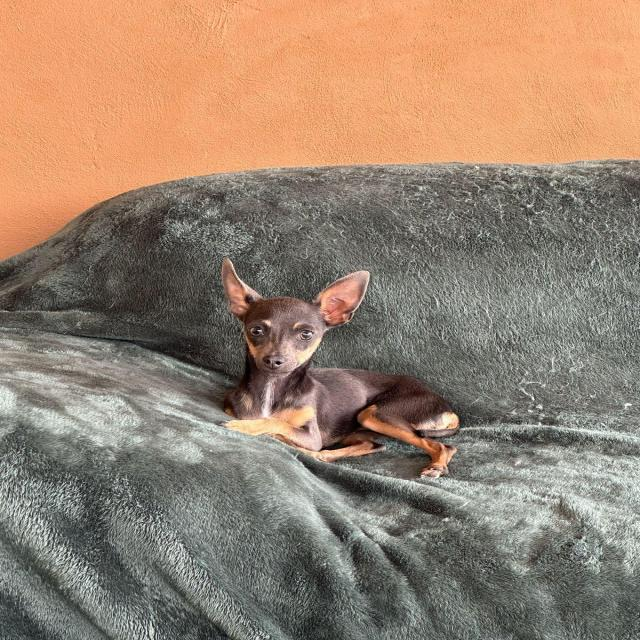chihuahua_dog: (212, 254, 376, 388)
